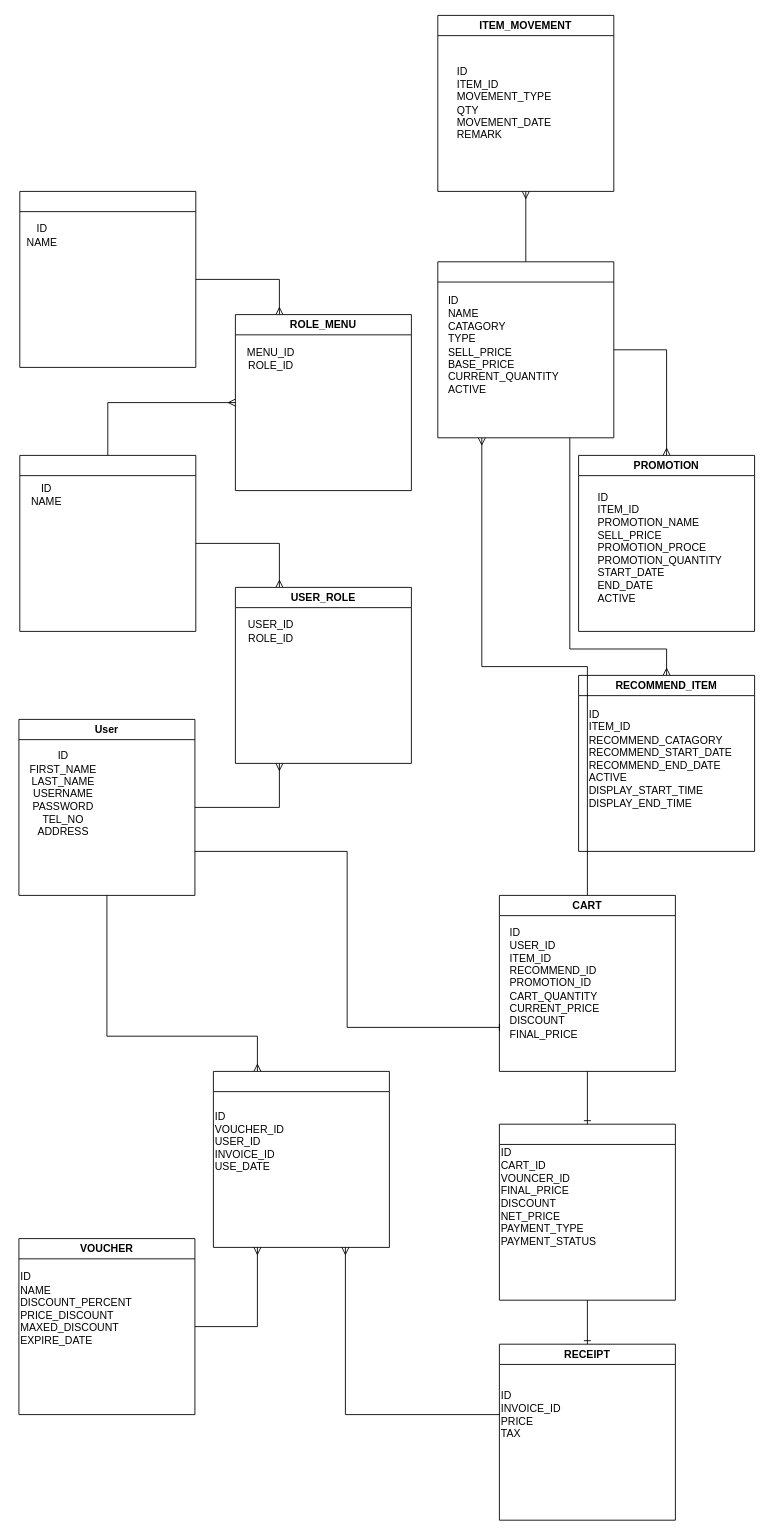
The diagram is 770 pixels wide and 1536 high, and some of its shapes have lost their labels. Each missing label, with the box of its shape:
INVOICE: (499, 1123, 675, 1300)
ITEM: (437, 261, 614, 438)
Menu: (19, 191, 196, 367)
Role: (19, 455, 196, 631)
VOUCHER_HISTORY: (213, 1071, 389, 1247)
